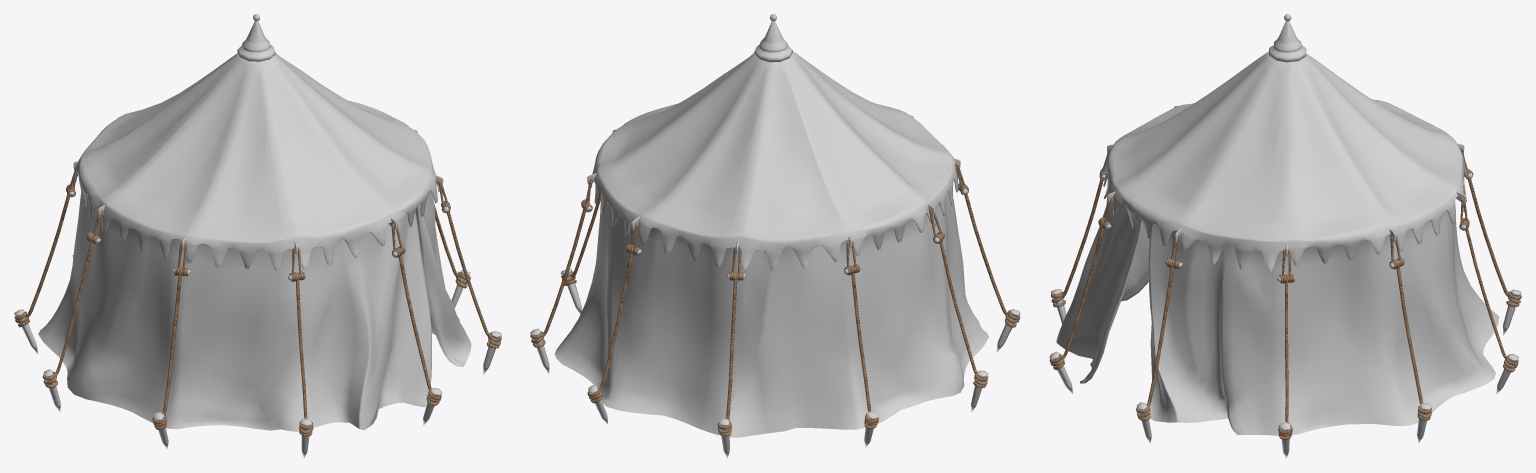
3 views of the same model, side by side, from view 1: azimuth 30°, elevation 25°; view 2: azimuth 150°, elevation 25°; view 3: azimuth 270°, elevation 25° (orthographic).
Visible parts, largest first — view 1: SM_Narrative_Tent_Zanik_v1_LOD0; view 2: SM_Narrative_Tent_Zanik_v1_LOD0; view 3: SM_Narrative_Tent_Zanik_v1_LOD0.
Part boxes in pixels (x1=…): SM_Narrative_Tent_Zanik_v1_LOD0: x1=14, y1=14, x2=501, y2=458; SM_Narrative_Tent_Zanik_v1_LOD0: x1=530, y1=14, x2=1020, y2=458; SM_Narrative_Tent_Zanik_v1_LOD0: x1=1049, y1=14, x2=1521, y2=458.
Size of the model in its own units: 6.32 by 4.97 by 6.04.
